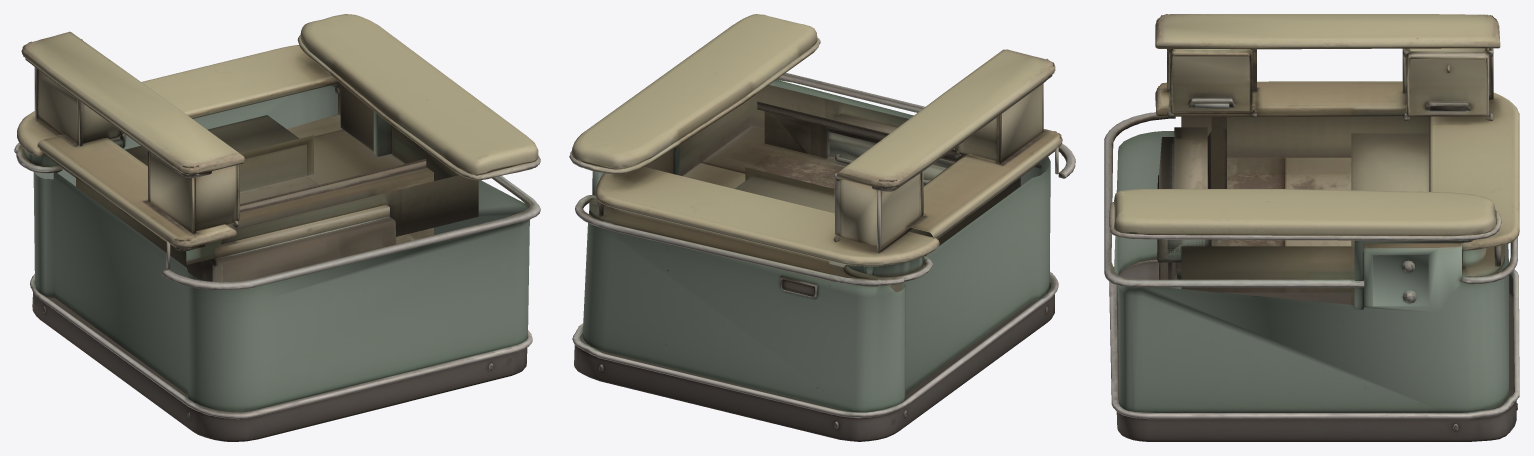
File: theme-hospital-triage-counter-v05.glb
3 views of the same model, side by side, from view 1: azimuth 30°, elevation 25°; view 2: azimuth 150°, elevation 25°; view 3: azimuth 270°, elevation 25° (orthographic). The views are drawn at different scales.
Visible parts, largest first — view 1: tripo_node_416a92aa-4e6d-473f-ac92-3751f3b0b4ae; view 2: tripo_node_416a92aa-4e6d-473f-ac92-3751f3b0b4ae; view 3: tripo_node_416a92aa-4e6d-473f-ac92-3751f3b0b4ae.
Boxes of the visible parts, bbox=[...] form: tripo_node_416a92aa-4e6d-473f-ac92-3751f3b0b4ae: bbox=[14, 14, 540, 441]; tripo_node_416a92aa-4e6d-473f-ac92-3751f3b0b4ae: bbox=[569, 14, 1075, 441]; tripo_node_416a92aa-4e6d-473f-ac92-3751f3b0b4ae: bbox=[1104, 14, 1519, 441].
Size of the model in its own units: 1.54 by 1.1 by 1.54.
1 material, 1 textured.
